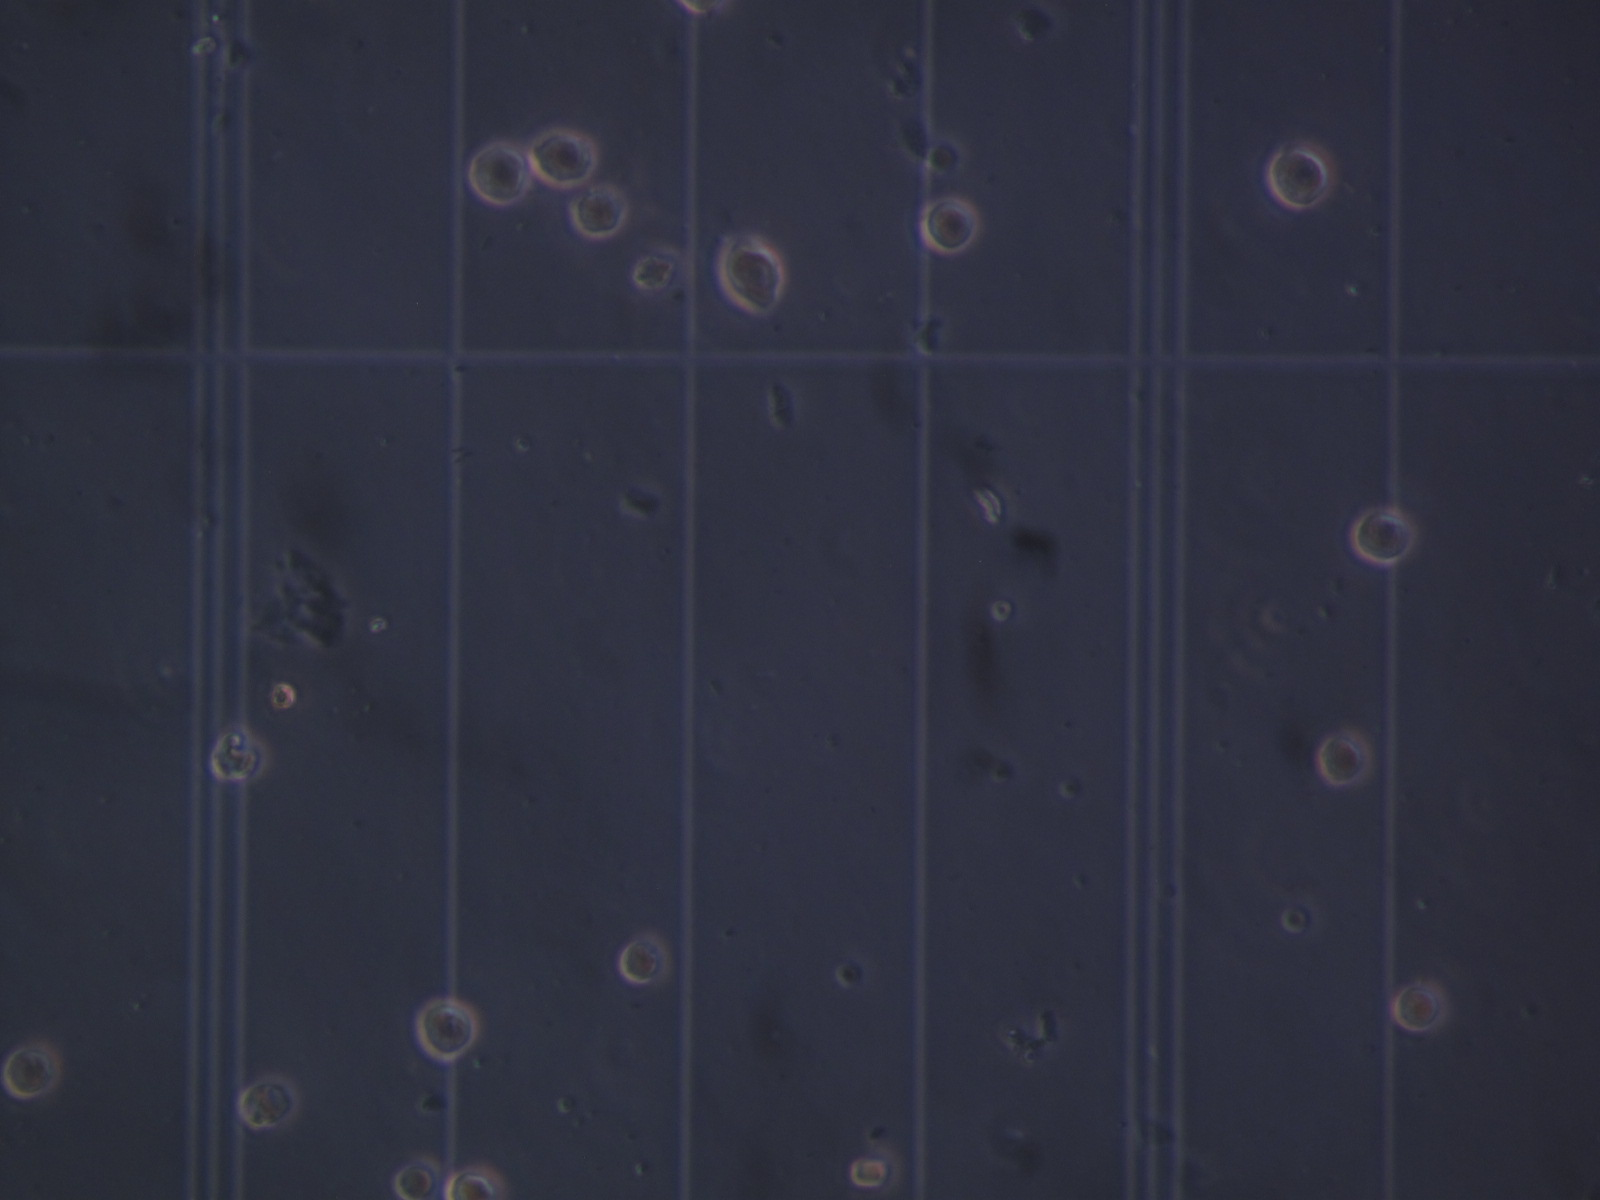hemo: (718, 243, 787, 315), (1267, 145, 1330, 211), (530, 125, 597, 187), (469, 145, 532, 207), (209, 724, 271, 785), (417, 998, 477, 1061), (1318, 725, 1374, 788), (918, 195, 979, 253), (1396, 973, 1453, 1032), (1354, 509, 1415, 565), (6, 1039, 64, 1095), (632, 241, 687, 301), (850, 1145, 908, 1200), (239, 1073, 299, 1127), (571, 185, 626, 237), (619, 928, 669, 984), (393, 1153, 442, 1200), (445, 1163, 506, 1200)
